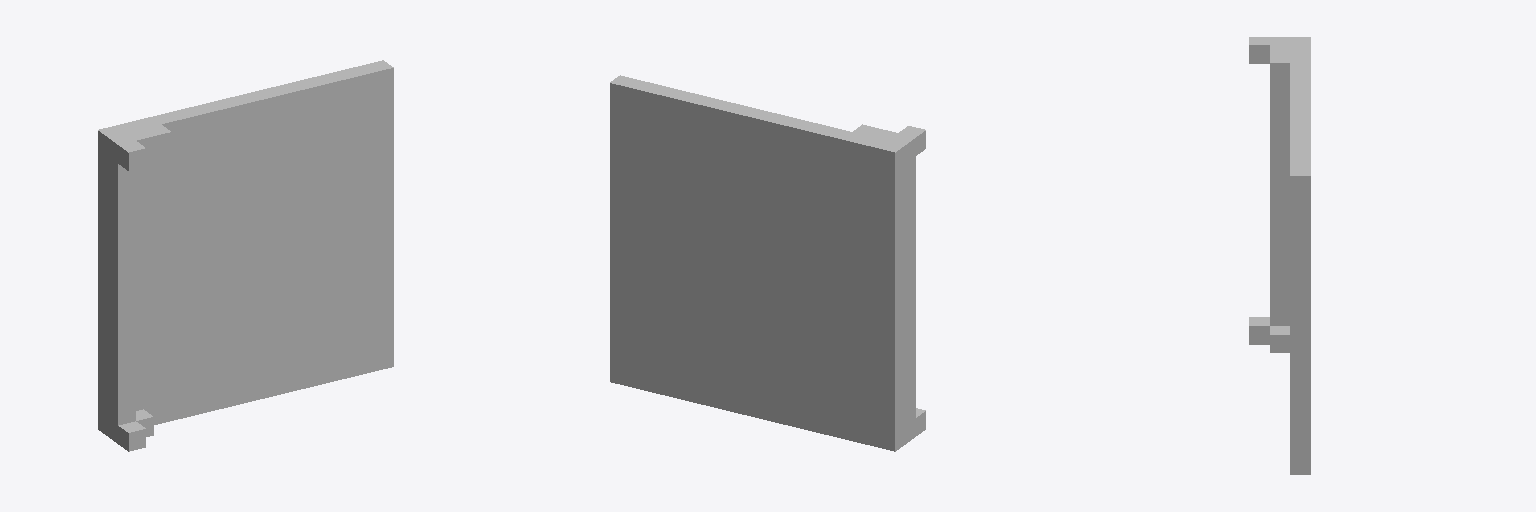
File: doorPurple.obj
The picture shows the model from 3 angles: view 1: azimuth 30°, elevation 25°; view 2: azimuth 150°, elevation 25°; view 3: azimuth 270°, elevation 25°; orthographic projection.
Parts seen in each view (by area): view 1: object 1; view 2: object 1; view 3: object 1.
Boxes of the visible parts, x1=… form: object 1: x1=98, y1=60, x2=393, y2=451; object 1: x1=610, y1=75, x2=925, y2=451; object 1: x1=1249, y1=37, x2=1310, y2=474.
Bounding box in the file's own units: 1.6 × 1.6 × 0.3.